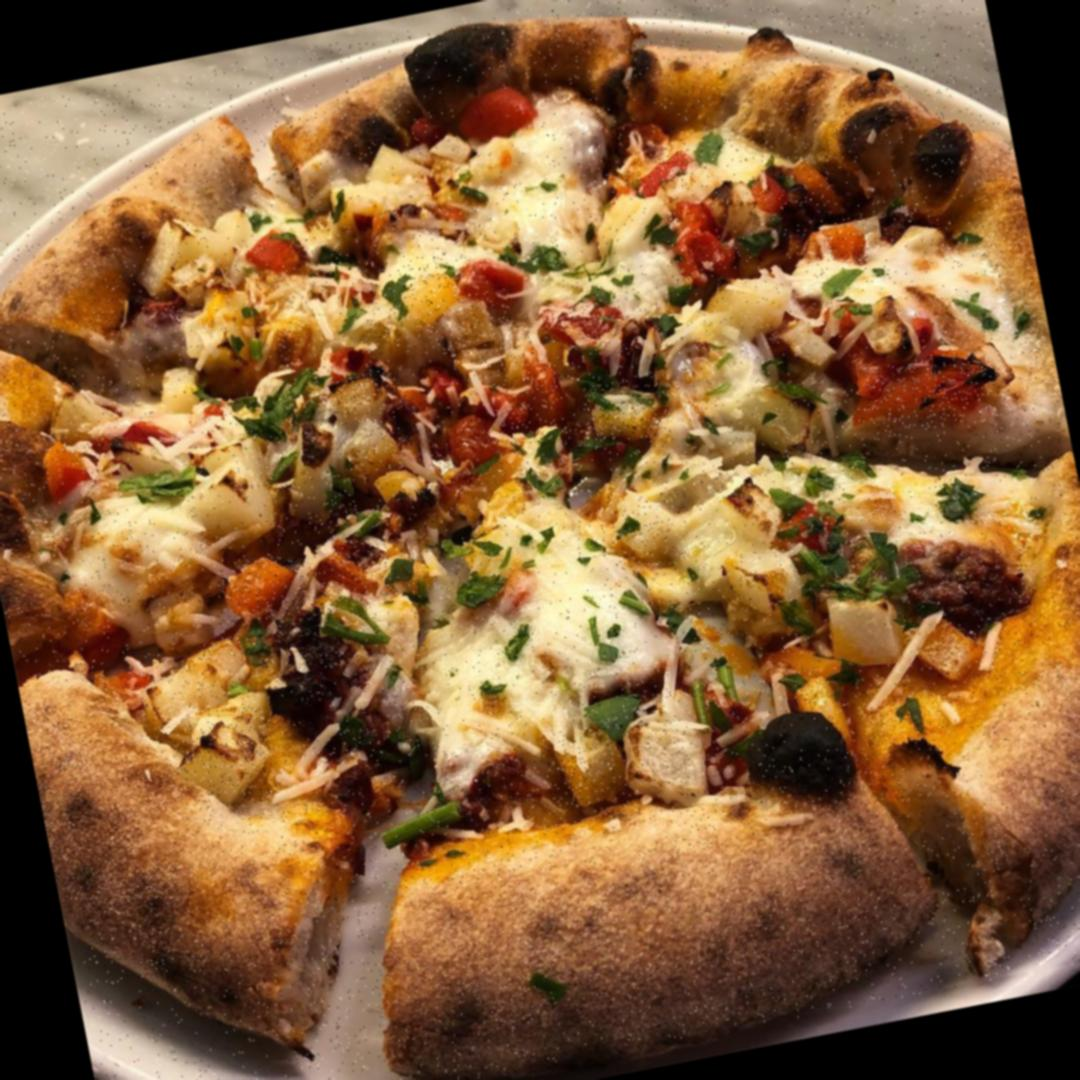Onion: (158, 702, 280, 822), (607, 702, 727, 820), (256, 415, 360, 530), (647, 320, 753, 410), (813, 588, 913, 678), (123, 644, 230, 727), (148, 233, 242, 318), (606, 490, 692, 576), (331, 402, 407, 488), (719, 474, 798, 555), (314, 365, 406, 424)
Peppers: (393, 362, 508, 490), (830, 292, 972, 391), (861, 344, 1004, 441), (446, 348, 572, 457), (362, 248, 480, 345), (539, 714, 648, 812), (570, 371, 674, 451), (662, 188, 741, 292), (212, 548, 314, 628), (112, 398, 214, 478), (448, 72, 537, 155), (301, 540, 397, 616), (429, 287, 518, 368), (184, 327, 273, 408), (237, 204, 321, 288), (16, 428, 103, 508), (257, 305, 350, 379), (460, 242, 543, 324), (782, 138, 853, 230), (794, 209, 880, 281), (618, 140, 712, 202), (732, 162, 800, 206)
Pizza: (0, 0, 1080, 1080)
Tomatoes: (538, 291, 641, 370)
